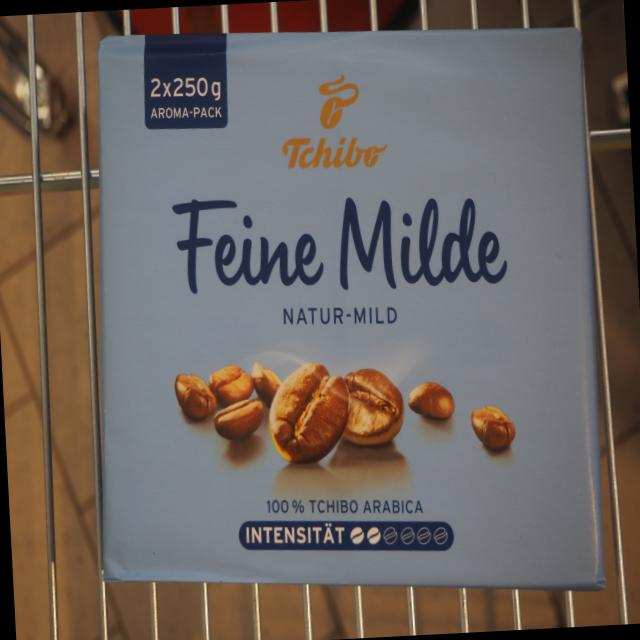FM Gemahlen: (92, 21, 611, 594)
